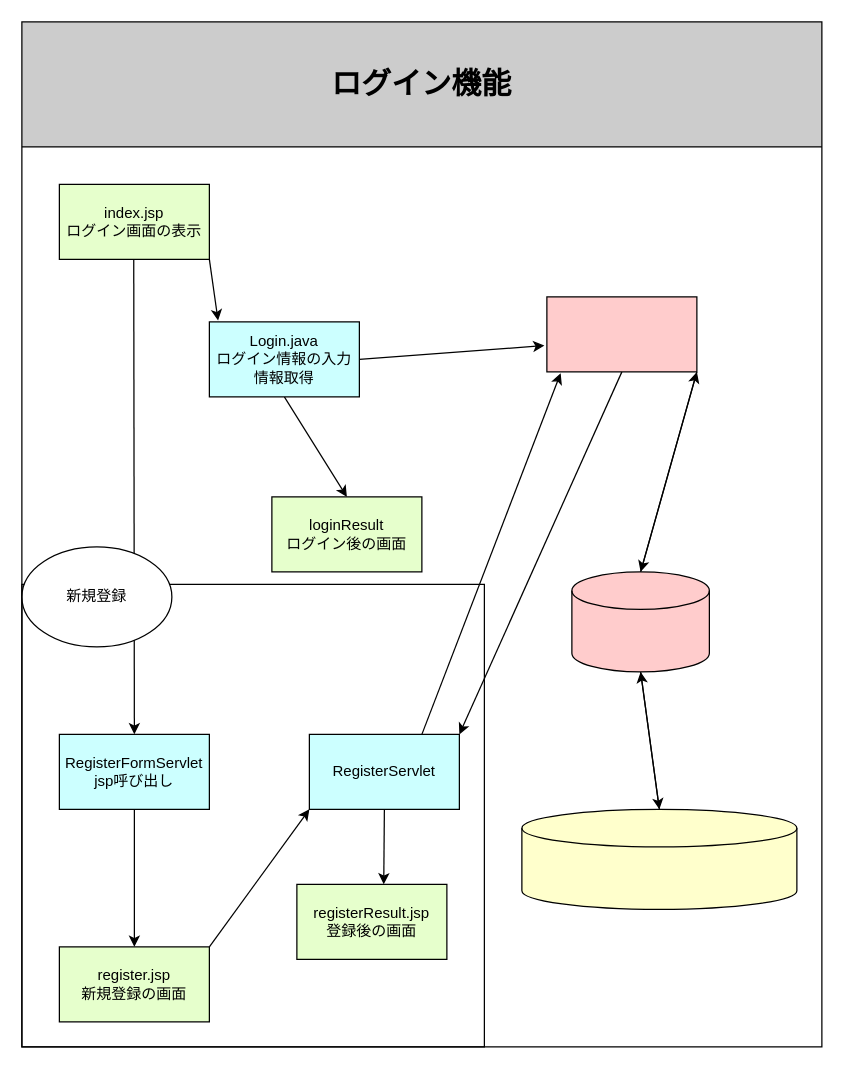
Some shapes in this 844 by 1069 pixel diagram are drawn without their labels. The shapes that lost their labels are listed below. From the top down, each one's box as (x1, y1, x2, y2) in pixels, then its label:
(546, 296, 697, 372): UserDAO.java ログイン情報の送信
(571, 571, 709, 672): DBUtil.java
(521, 808, 797, 909): DB
